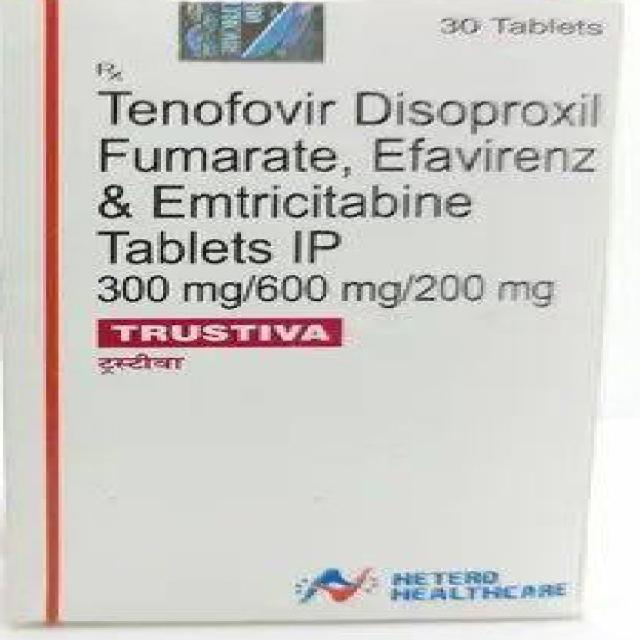drug-name: (94, 314, 328, 346)
